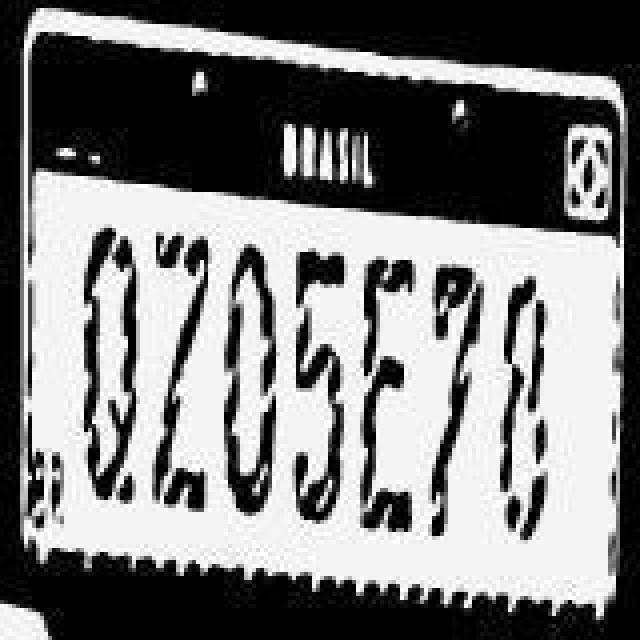5: (288, 250, 352, 534)
7: (426, 262, 486, 538)
8: (492, 272, 556, 544)
E: (356, 246, 412, 538)
O: (218, 232, 278, 520)
Q: (76, 228, 140, 508)
Z: (150, 228, 210, 508)
